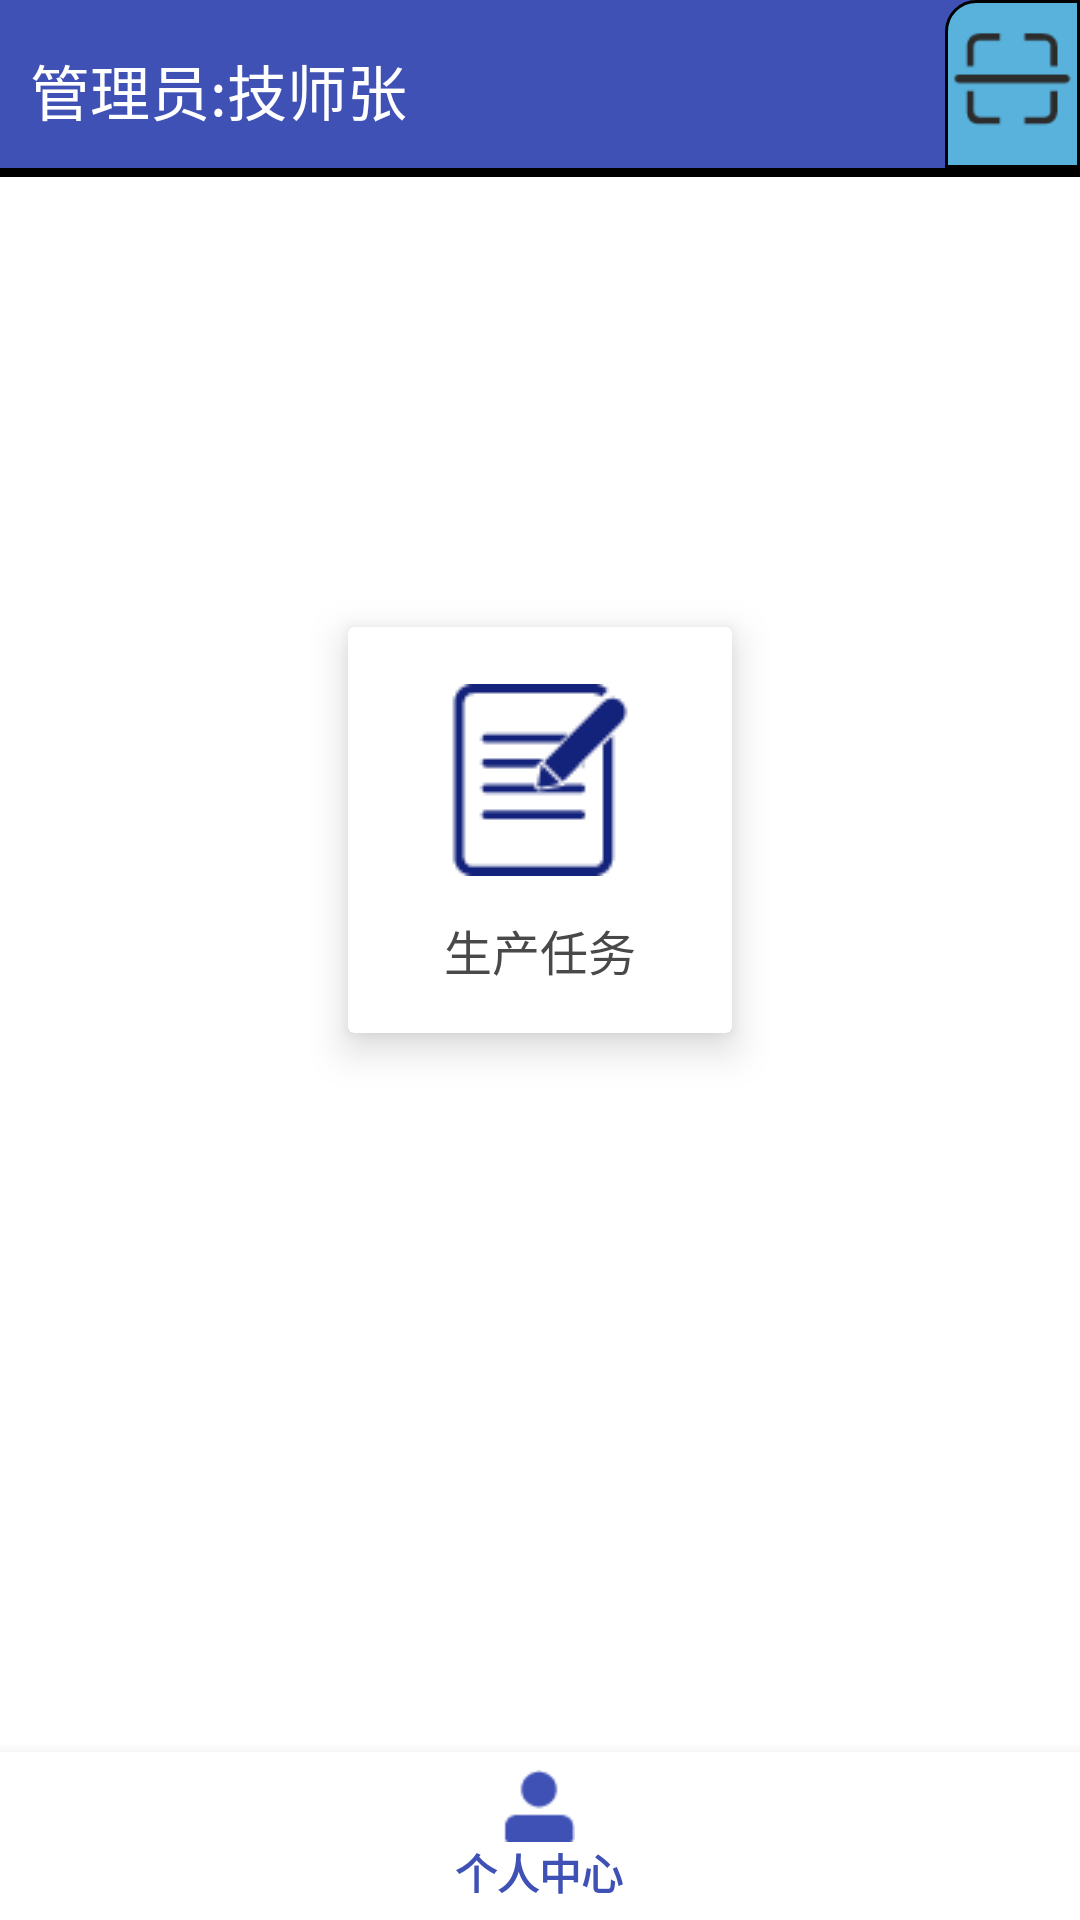

Screen size 1080 x 1920. Icon name, then its box in pixels as (x1, y1, x2, y2):
scan: (954, 33, 1071, 125)
